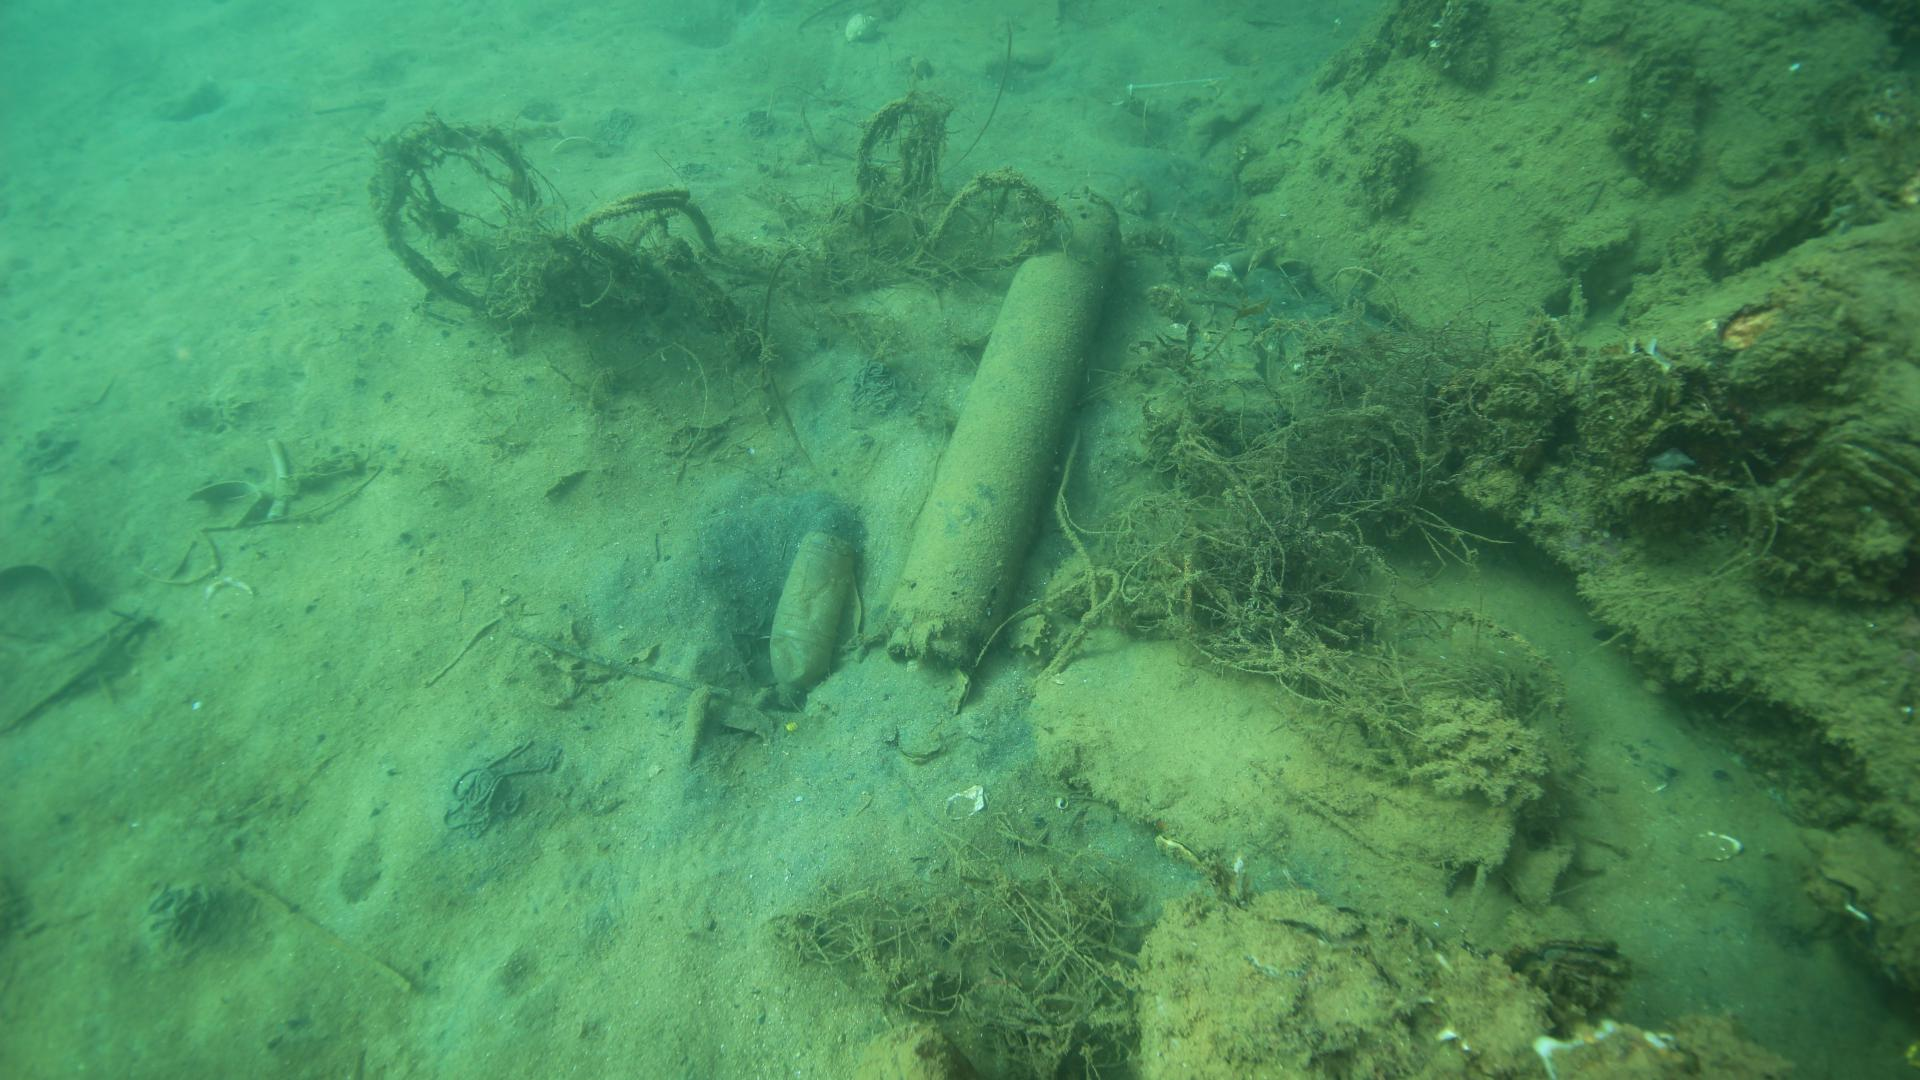eel fish trap: (877, 185, 1127, 673)
